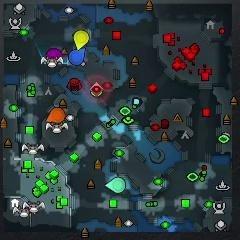p1: (69, 48, 85, 66)
p2: (104, 177, 127, 193)
p3: (46, 48, 62, 59)
p4: (73, 30, 89, 50)
p5: (45, 107, 64, 123)
